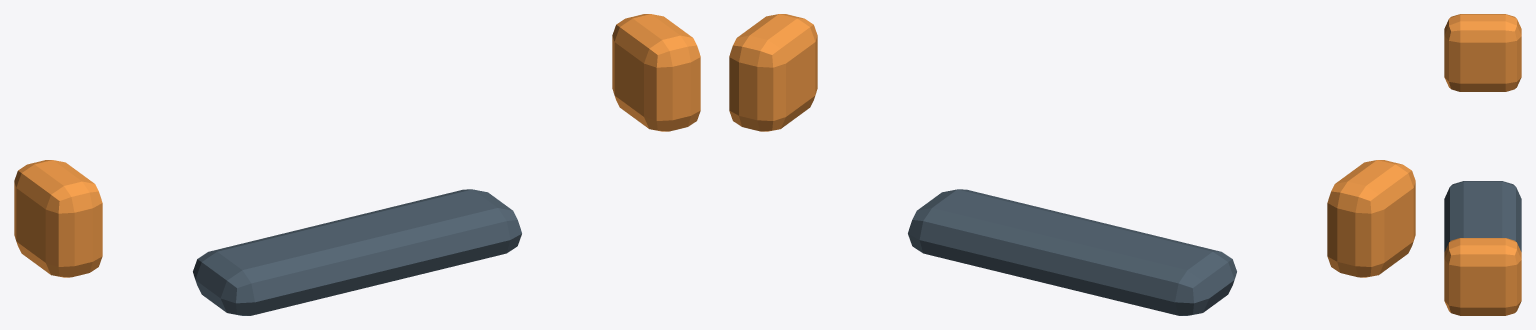
File: PR3D_Rail_Connector.fbx
3 renders of one model, left to right at view 1: azimuth 30°, elevation 25°; view 2: azimuth 150°, elevation 25°; view 3: azimuth 270°, elevation 25°, orthographic. The views are drawn at different scales.
Parts seen in each view (by area): view 1: Visual_ConnectorDeck, Visual_ConnectorLatch_-1, Visual_ConnectorLatch_+1; view 2: Visual_ConnectorDeck, Visual_ConnectorLatch_-1, Visual_ConnectorLatch_+1; view 3: Visual_ConnectorLatch_+1, Visual_ConnectorLatch_-1, Visual_ConnectorDeck.
Boxes of the visible parts, box(x1,y1,x2,y2) form: Visual_ConnectorDeck: box(193, 189, 521, 315); Visual_ConnectorLatch_-1: box(14, 160, 102, 277); Visual_ConnectorLatch_+1: box(612, 14, 700, 131); Visual_ConnectorDeck: box(908, 189, 1236, 315); Visual_ConnectorLatch_-1: box(1327, 160, 1415, 277); Visual_ConnectorLatch_+1: box(729, 14, 817, 131); Visual_ConnectorLatch_+1: box(1444, 238, 1521, 315); Visual_ConnectorLatch_-1: box(1444, 14, 1521, 91); Visual_ConnectorDeck: box(1444, 181, 1521, 251).
Size of the model in its own units: 0.895 by 0.23 by 0.12.
